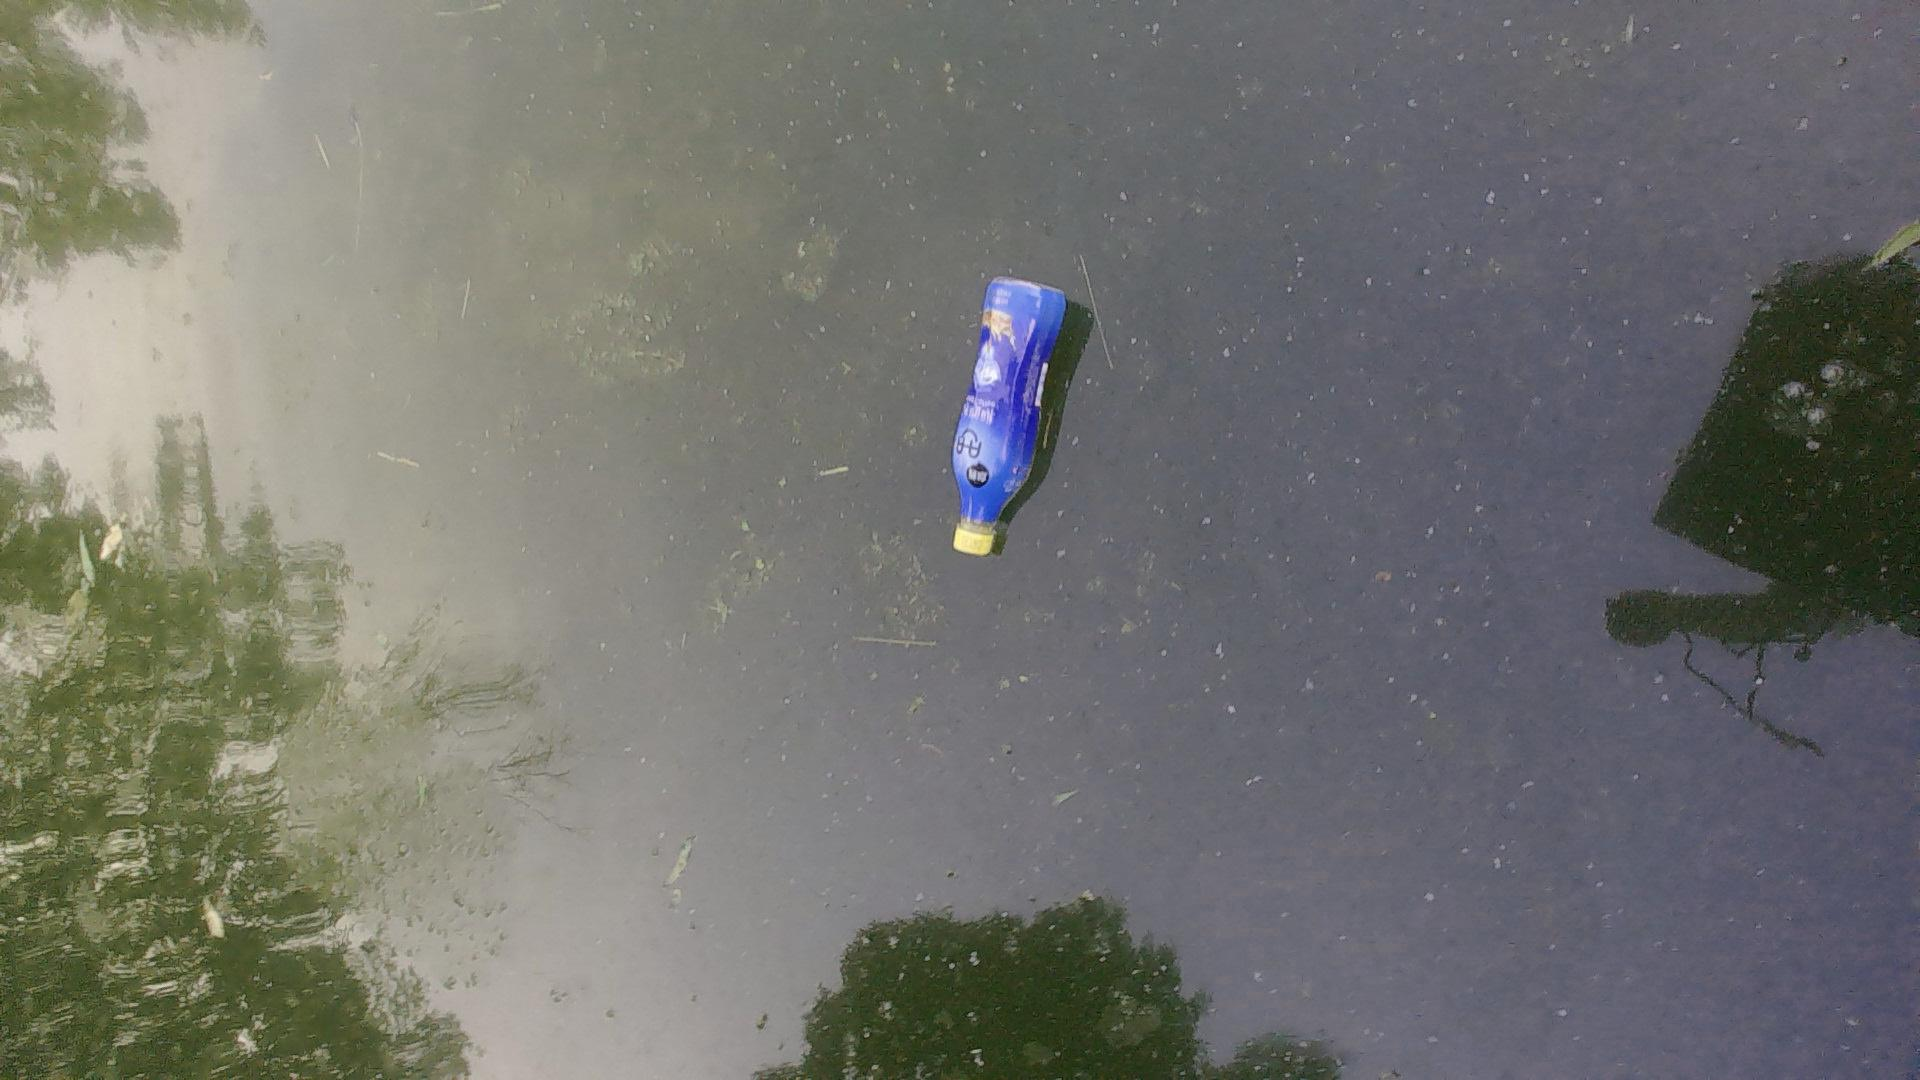Plastic: (945, 266, 1081, 562)
